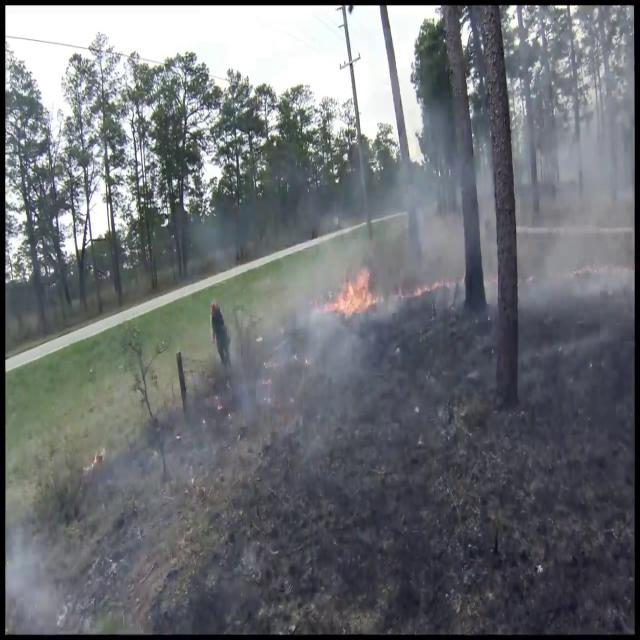Fire: (328, 259, 380, 321)
Smoke: (363, 67, 635, 313), (163, 194, 318, 471)
